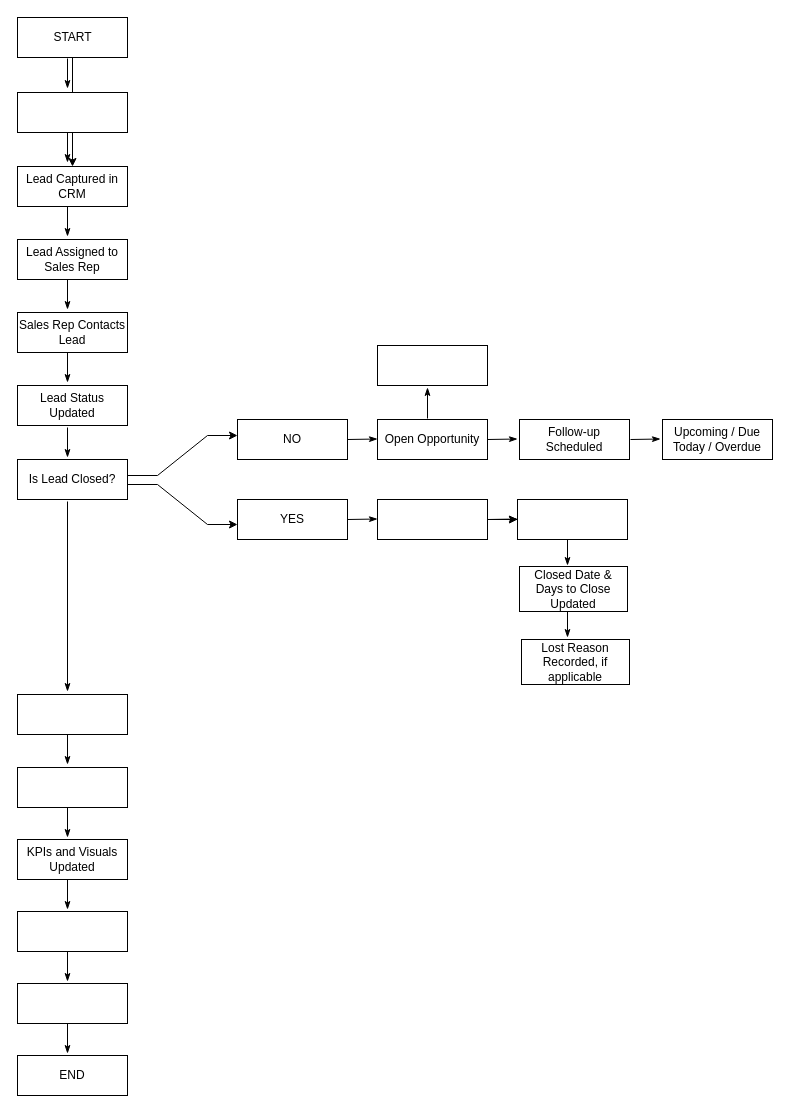
Image size: 790x1113. Some labels were removed from this diagram. The shapes that lost their labels are listed below. From the top down, each one's centre as x and y in pixels, then its label:
point 72,112: Lead Generated
point 432,365: Open Pipeline Tracked
point 432,519: Closed Opportunity
point 572,519: Converted / Lost / Not Interested
point 72,714: CRM Data Validated
point 72,787: Dashboard Data Refreshed
point 72,931: Sales Manager Reviews Dashboard
point 72,1003: Business Action Taken
